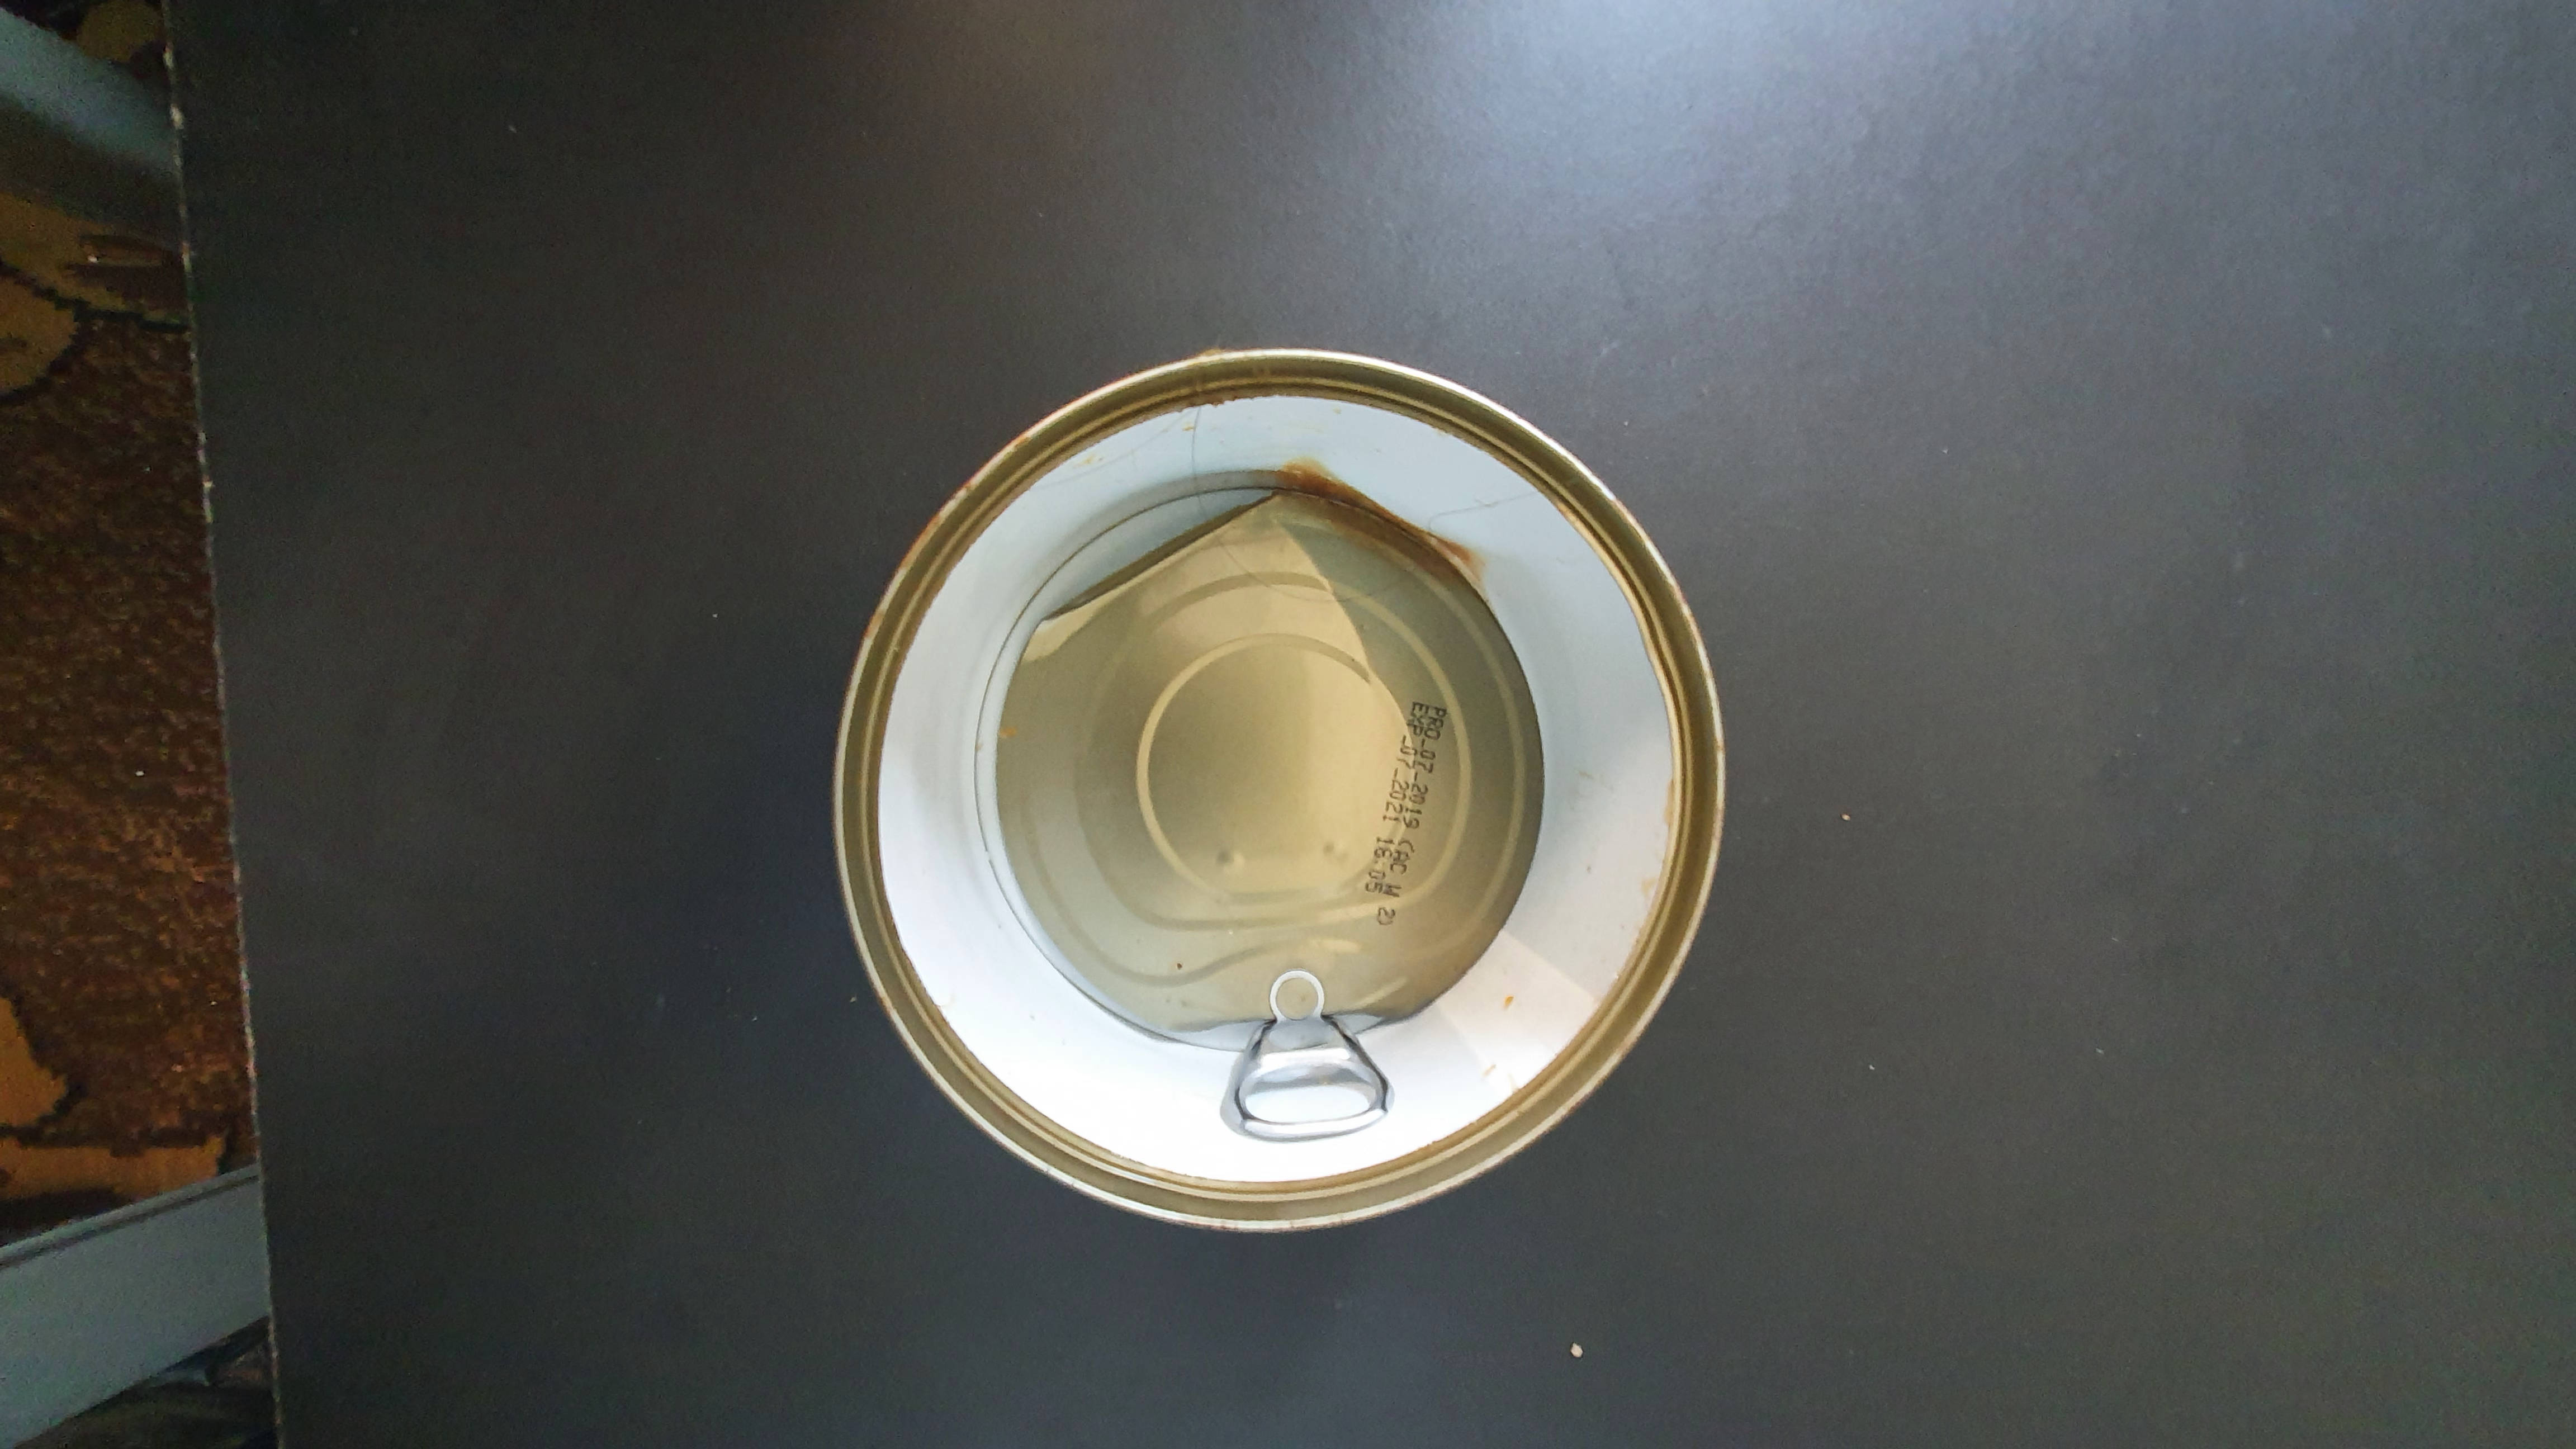metal: (748, 310, 1759, 1261)
